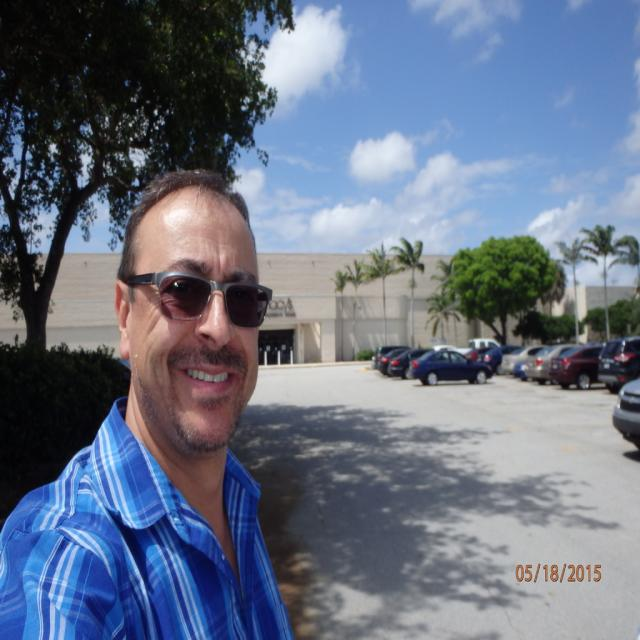car: (410, 342, 483, 381), (384, 347, 432, 375), (372, 347, 407, 369), (379, 346, 405, 369)
